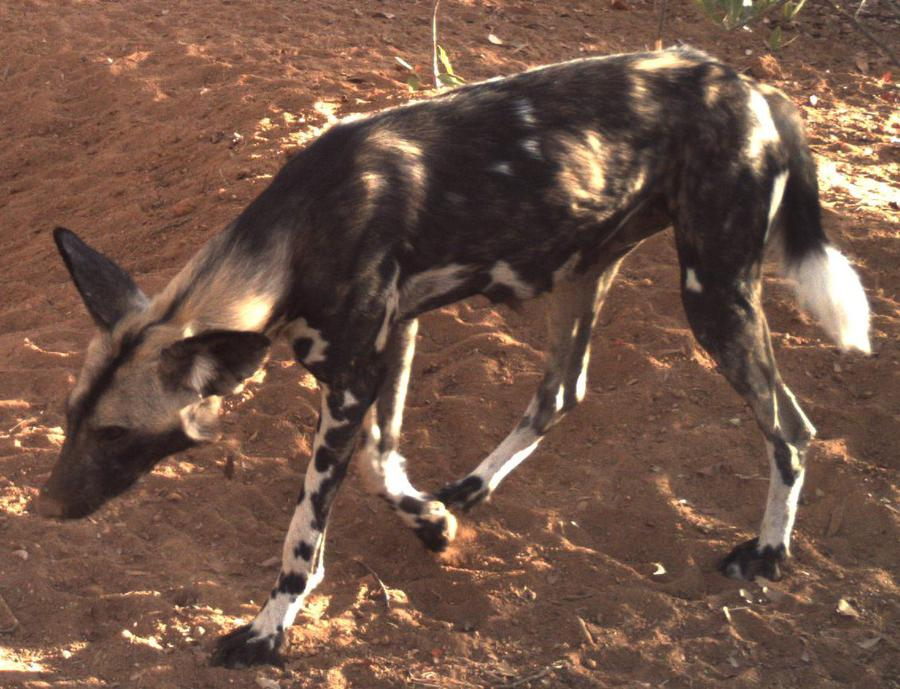wilddog: (114, 32, 825, 622)
